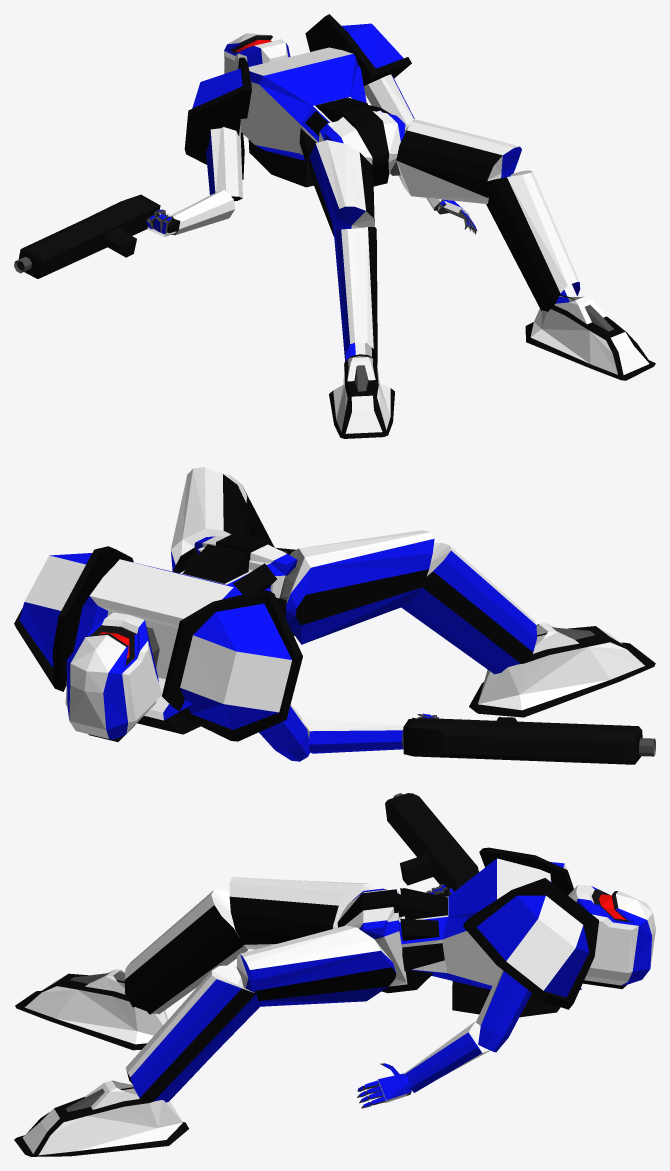
Rendered from robots_000029.obj.
The picture shows the model from 3 angles, top to bottom: view 1: azimuth 30°, elevation 25°; view 2: azimuth 150°, elevation 25°; view 3: azimuth 270°, elevation 25°; orthographic projection. The views are drawn at different scales.
Visible parts, largest first — view 1: Chest_plate_Cube.004, R_Thigh.002_Cube.027, R_Shin.002_Cube.029, R_Foot.002_Cube.035, Cube_Cube.001, R_Shin_Cube.007, R_Thigh_Cube.005, R_Foot_Cube, Cube.002_Cube.059, Pelvis_Cube.006, Cube_Cube.021, R_Arm_Cube.002 (+3 smaller); view 2: Cube.002_Cube.059, Chest_plate_Cube.004, R_Thigh_Cube.005, Cube_Cube.001, R_Foot_Cube, R_Shin_Cube.007, Head_base_Cube.022, Cube_Cube.021, R_Thigh.002_Cube.027, R_Forearm_Cube.008, Pelvis_Cube.006, R_Arm_Cube.002 (+1 smaller); view 3: Cube_Cube.021, Chest_plate_Cube.004, R_Thigh.002_Cube.027, R_Shin.002_Cube.029, R_Foot.002_Cube.035, R_Shin_Cube.007, R_Thigh_Cube.005, R_Foot_Cube, Head_base_Cube.022, Cube_Cube.001, Pelvis_Cube.006, L_Arm_Cube.014 (+3 smaller).
Part boxes in pixels (x1,y1,x2,y2): Chest_plate_Cube.004: (240,47,390,187); R_Thigh.002_Cube.027: (396,119,521,203); R_Shin.002_Cube.029: (485,170,580,312); R_Foot.002_Cube.035: (525,295,655,380); Cube_Cube.001: (14,194,180,278); R_Shin_Cube.007: (333,227,377,365); R_Thigh_Cube.005: (309,140,374,236); R_Foot_Cube: (329,354,394,438); Cube.002_Cube.059: (184,57,251,179); Pelvis_Cube.006: (319,106,405,186); Cube_Cube.021: (305,14,411,85); R_Arm_Cube.002: (206,126,242,201); Cube.002_Cube.059: (162,590,302,741); Chest_plate_Cube.004: (73,544,286,734); R_Thigh_Cube.005: (285,530,434,644); Cube_Cube.001: (403,717,655,764); R_Foot_Cube: (469,623,655,717); R_Shin_Cube.007: (401,542,536,674); Head_base_Cube.022: (65,612,162,741); Cube_Cube.021: (14,546,133,691); R_Thigh.002_Cube.027: (170,467,250,570); R_Forearm_Cube.008: (301,718,404,753); Pelvis_Cube.006: (194,532,297,598); R_Arm_Cube.002: (259,704,310,761); Cube_Cube.021: (463,878,598,1009); Chest_plate_Cube.004: (399,858,581,1017); R_Thigh.002_Cube.027: (236,925,396,1006); R_Shin.002_Cube.029: (125,965,261,1102); R_Foot.002_Cube.035: (14,1080,188,1156); R_Shin_Cube.007: (124,889,249,1014); R_Thigh_Cube.005: (229,877,375,949); R_Foot_Cube: (15,969,167,1050); Head_base_Cube.022: (568,885,655,989); Cube_Cube.001: (385,793,478,896); Pelvis_Cube.006: (337,888,433,993); L_Arm_Cube.014: (476,969,531,1052).
Bounding box in the file's own units: 2.95 × 1.28 × 3.12.
